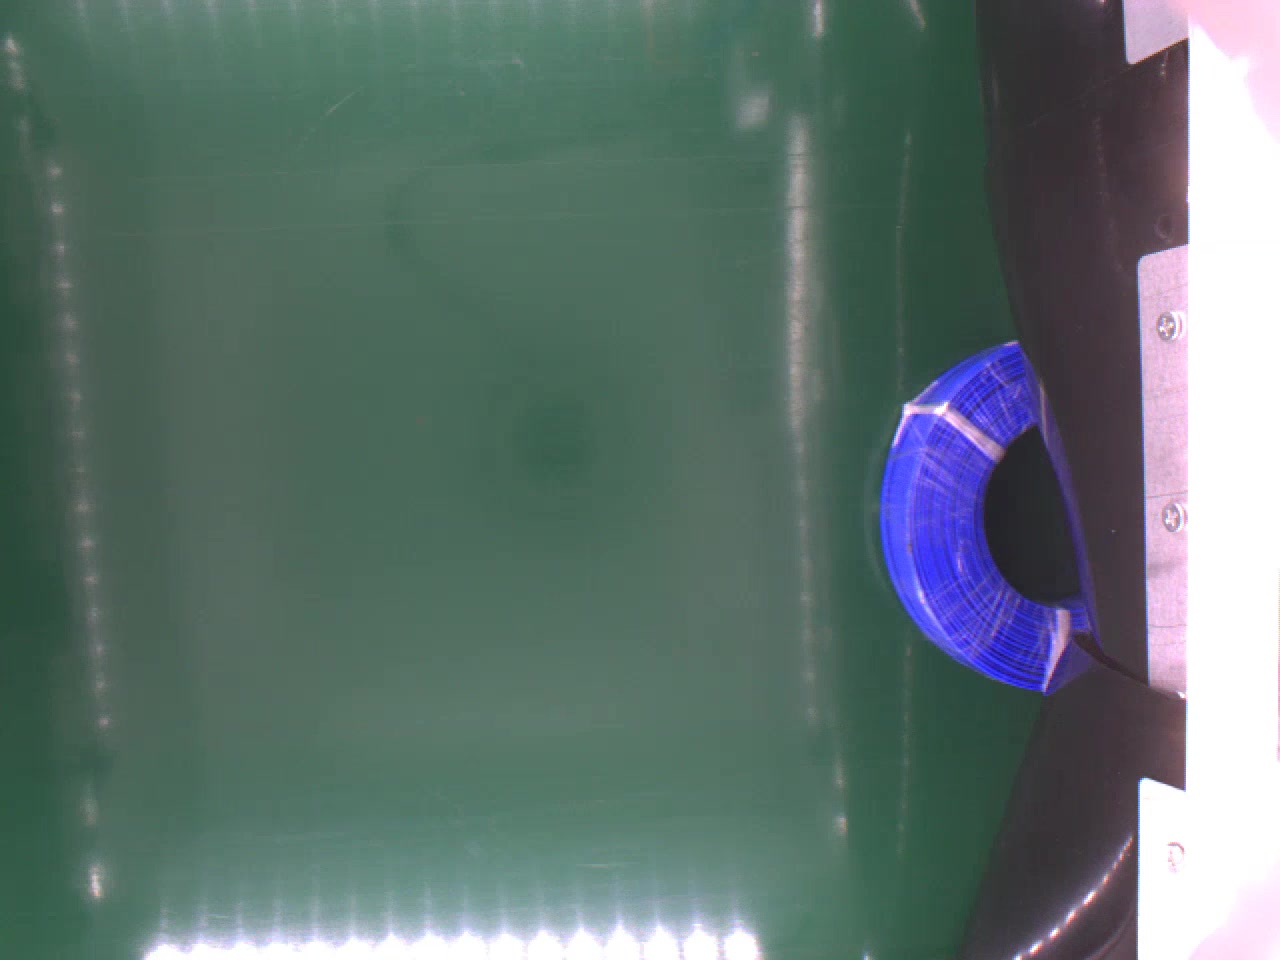blue: (873, 335, 1080, 688)
